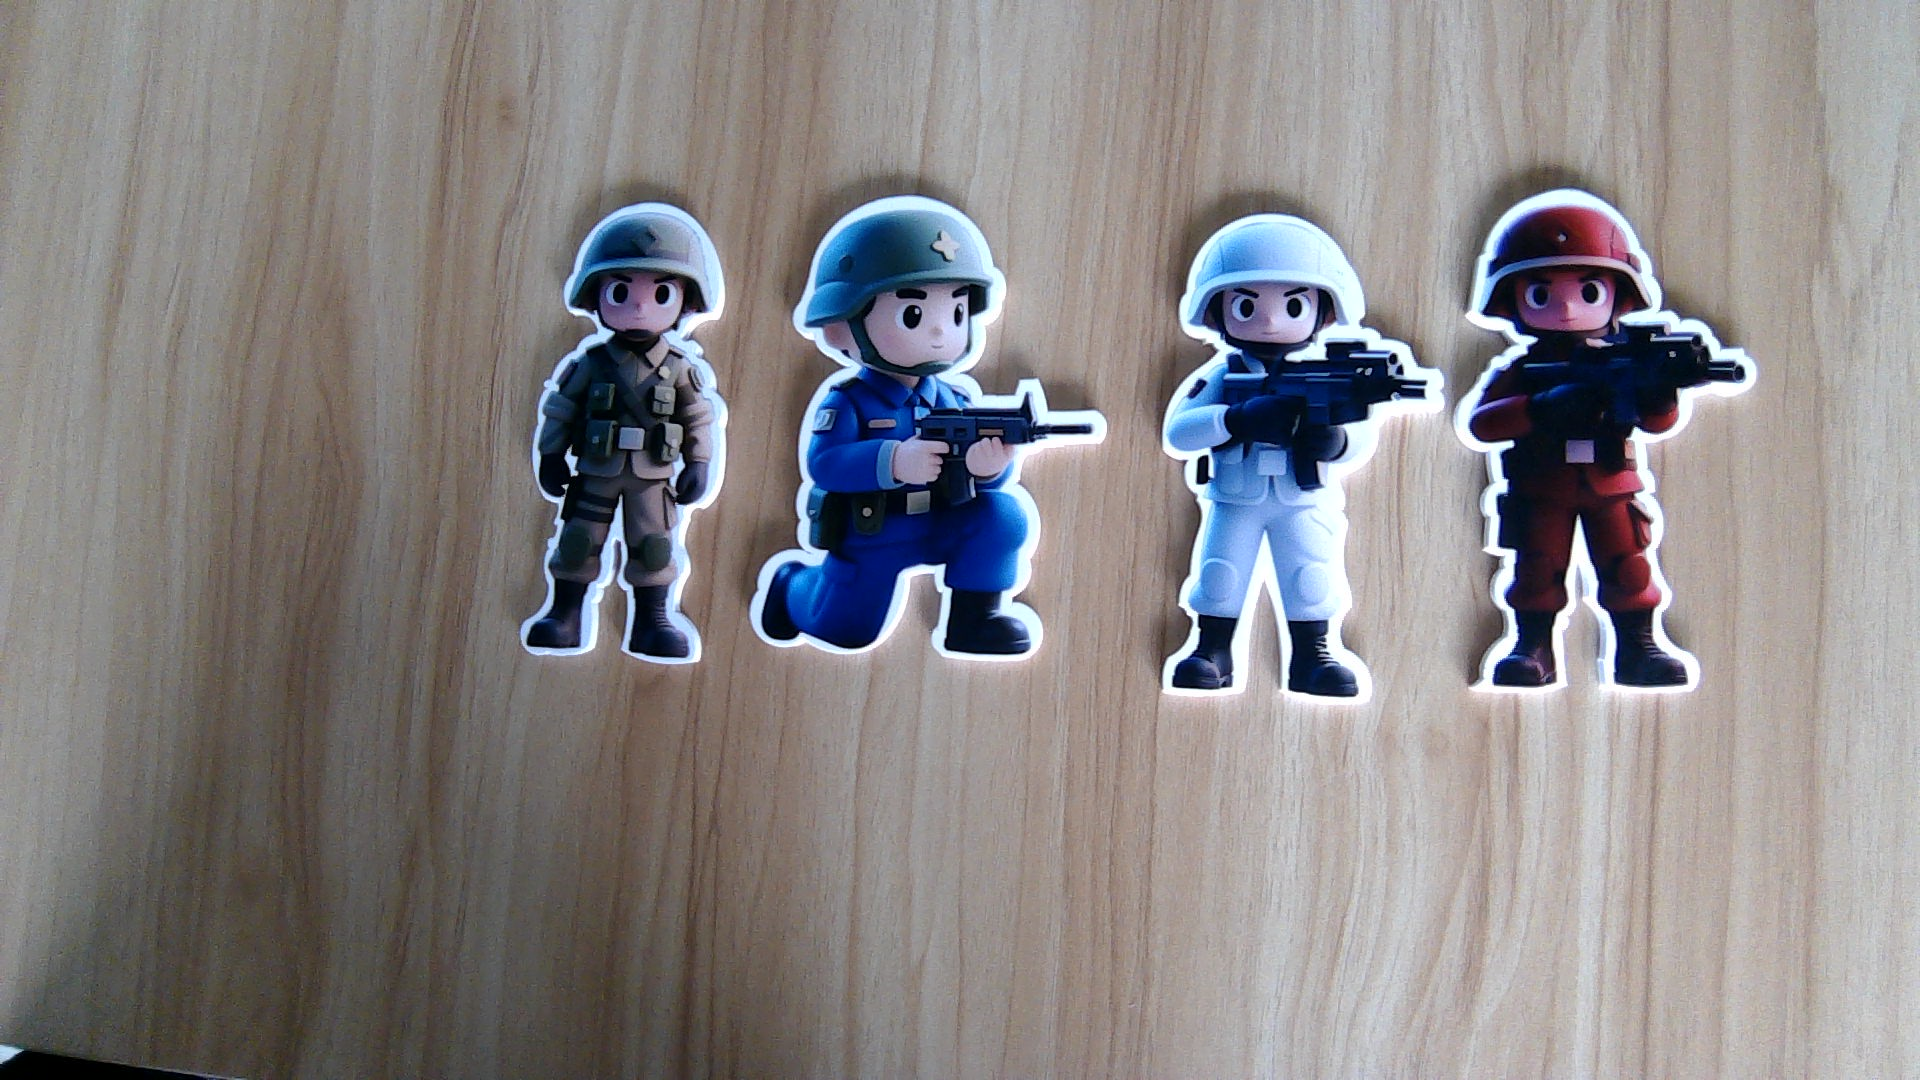人质: (1149, 348, 1436, 708)
友军: (518, 336, 728, 666)
敌人1: (1448, 339, 1754, 702)
敌人2: (742, 375, 1102, 680)
